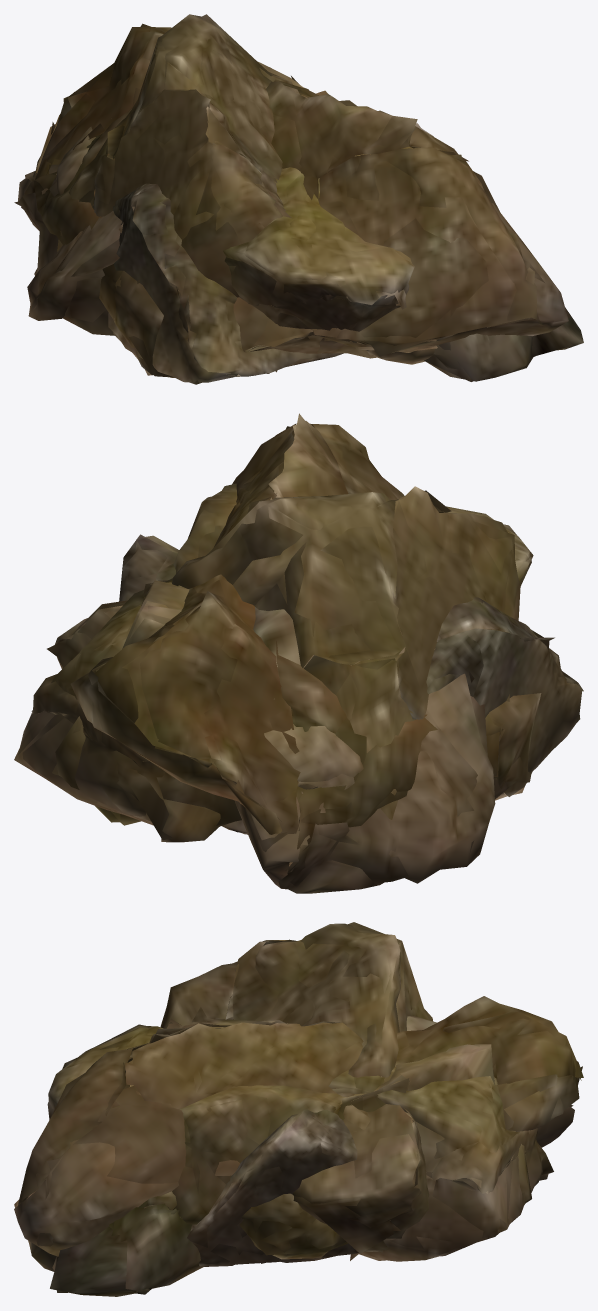
Rendered from rock_moss_set_01.glb.
3 renders of one model, top to bottom at view 1: azimuth 30°, elevation 25°; view 2: azimuth 150°, elevation 25°; view 3: azimuth 270°, elevation 25°, orthographic. The views are drawn at different scales.
Parts seen in each view (by area): view 1: rock_moss_set_01_v0_near, rock_moss_set_01_v0_far, rock_moss_set_01_v3_near, rock_moss_set_01_v4_near, rock_moss_set_01_v2_near, rock_moss_set_01_v3_far, rock_moss_set_01_v1_near, rock_moss_set_01_v4_far, rock_moss_set_01_v1_far, rock_moss_set_01_v2_far, rock_moss_set_01_v5_near; view 2: rock_moss_set_01_v0_near, rock_moss_set_01_v3_near, rock_moss_set_01_v3_far, rock_moss_set_01_v1_near, rock_moss_set_01_v0_far, rock_moss_set_01_v4_near, rock_moss_set_01_v2_near, rock_moss_set_01_v1_far, rock_moss_set_01_v4_far, rock_moss_set_01_v5_near, rock_moss_set_01_v2_far, rock_moss_set_01_v5_far; view 3: rock_moss_set_01_v0_near, rock_moss_set_01_v3_near, rock_moss_set_01_v4_near, rock_moss_set_01_v3_far, rock_moss_set_01_v5_near, rock_moss_set_01_v0_far, rock_moss_set_01_v1_near, rock_moss_set_01_v2_near, rock_moss_set_01_v4_far, rock_moss_set_01_v5_far, rock_moss_set_01_v2_far, rock_moss_set_01_v1_far.
Part boxes in pixels (<box>): rock_moss_set_01_v0_near: <box>24,27,568,377</box>; rock_moss_set_01_v0_far: <box>33,23,570,376</box>; rock_moss_set_01_v3_near: <box>57,14,292,297</box>; rock_moss_set_01_v4_near: <box>56,126,414,353</box>; rock_moss_set_01_v2_near: <box>108,128,433,382</box>; rock_moss_set_01_v3_far: <box>79,14,327,244</box>; rock_moss_set_01_v1_near: <box>14,143,583,381</box>; rock_moss_set_01_v4_far: <box>49,87,411,349</box>; rock_moss_set_01_v1_far: <box>22,171,573,381</box>; rock_moss_set_01_v2_far: <box>113,123,422,384</box>; rock_moss_set_01_v5_near: <box>257,61,436,364</box>; rock_moss_set_01_v0_near: <box>70,421,541,849</box>; rock_moss_set_01_v3_near: <box>55,486,520,819</box>; rock_moss_set_01_v3_far: <box>47,490,514,740</box>; rock_moss_set_01_v1_near: <box>235,607,495,893</box>; rock_moss_set_01_v0_far: <box>88,413,531,830</box>; rock_moss_set_01_v4_near: <box>18,506,531,842</box>; rock_moss_set_01_v2_near: <box>120,535,583,834</box>; rock_moss_set_01_v1_far: <box>234,648,487,887</box>; rock_moss_set_01_v4_far: <box>14,524,533,840</box>; rock_moss_set_01_v5_near: <box>55,483,236,822</box>; rock_moss_set_01_v2_far: <box>119,534,580,834</box>; rock_moss_set_01_v5_far: <box>52,483,237,825</box>; rock_moss_set_01_v0_near: <box>14,996,582,1263</box>; rock_moss_set_01_v3_near: <box>163,923,433,1252</box>; rock_moss_set_01_v4_near: <box>48,1024,548,1261</box>; rock_moss_set_01_v3_far: <box>160,922,429,1253</box>; rock_moss_set_01_v5_near: <box>111,1044,531,1259</box>; rock_moss_set_01_v0_far: <box>21,1011,583,1246</box>; rock_moss_set_01_v1_near: <box>28,1016,574,1296</box>; rock_moss_set_01_v2_near: <box>190,1109,355,1266</box>; rock_moss_set_01_v4_far: <box>47,1026,553,1260</box>; rock_moss_set_01_v5_far: <box>180,1044,524,1255</box>; rock_moss_set_01_v2_far: <box>187,1019,359,1264</box>; rock_moss_set_01_v1_far: <box>52,1105,573,1292</box>.
Bounding box in the file's own units: 2.65 × 1.78 × 3.4.
Materials: 1 (1 with a texture image).
